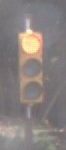Red: (15, 30, 47, 109)
